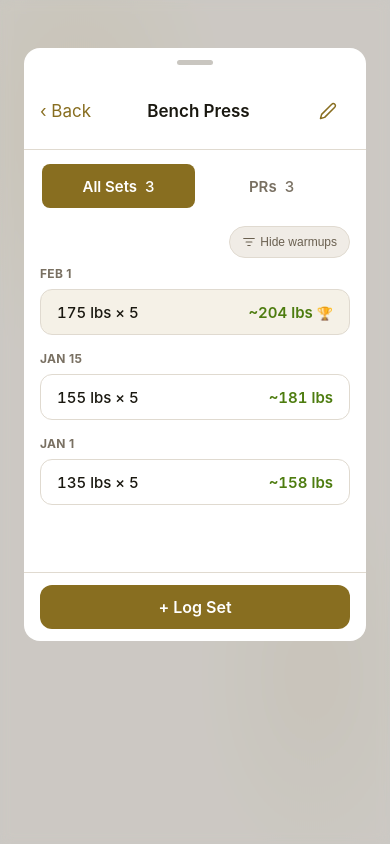
it: ExerciseDetailModal › PRs tab › switches to the PRs tab and renders a card per PR with the current badge
Click the button with class "wtDetailTab" showing "PRs 3" at (272, 186), box x1=195 y1=164 x2=348 y2=208
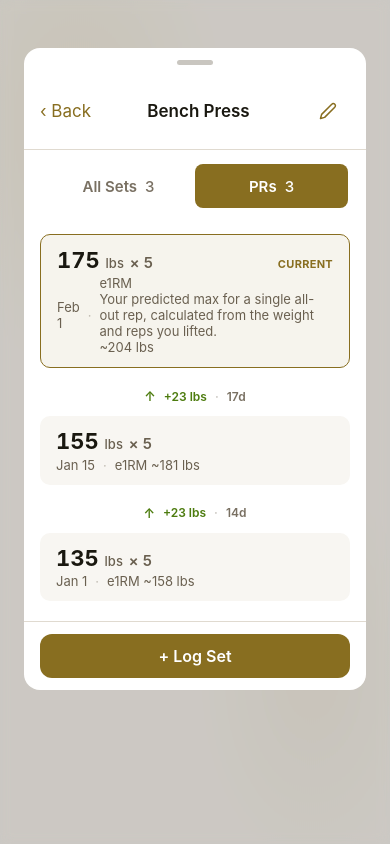
Expected: the number of elements with class "wtPRCard" is 3, x1=40 y1=234 x2=350 y2=368; x1=40 y1=416 x2=350 y2=485; x1=40 y1=533 x2=350 y2=601
Expected: the text with class "wtPRCardBadge" reads "Current", x1=278 y1=257 x2=333 y2=271
Expected: the number of elements with class "wtPRCardBadge" is 1, x1=278 y1=257 x2=333 y2=271
